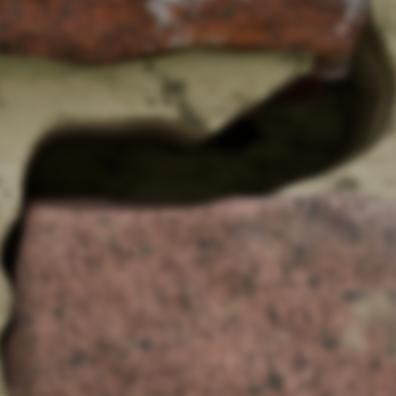brick: (10, 192, 395, 395), (0, 0, 365, 67)
crack: (0, 0, 395, 393)
